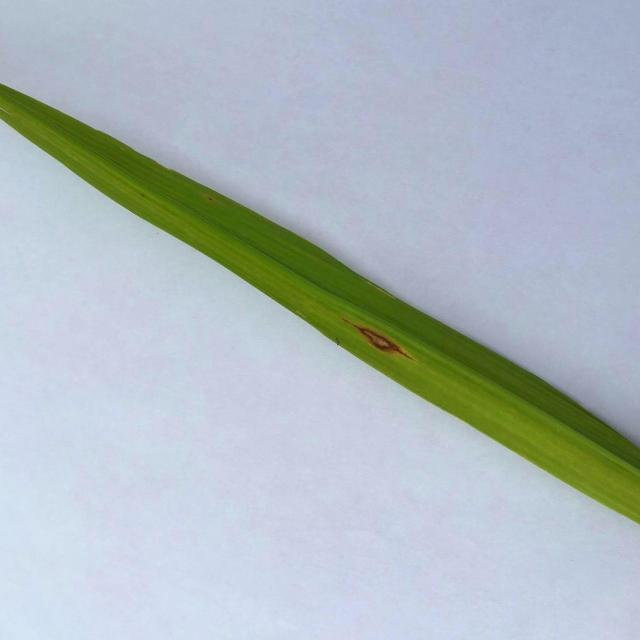Leaf blast: (0, 53, 640, 570)
